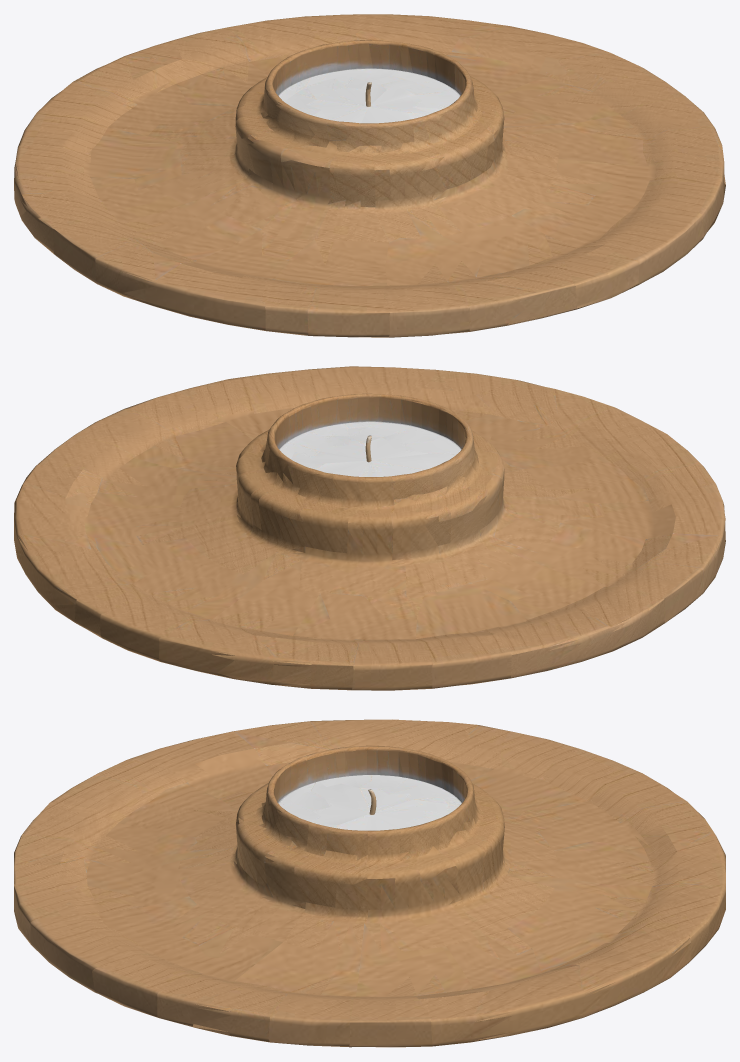
The model's file is photophore.glb.
3 renders of one model, top to bottom at view 1: azimuth 30°, elevation 25°; view 2: azimuth 150°, elevation 25°; view 3: azimuth 270°, elevation 25°, orthographic.
Visible parts, largest first — view 1: mesh_node; view 2: mesh_node; view 3: mesh_node.
Part boxes in pixels (bbox=[...]): mesh_node: bbox=[14, 14, 725, 337]; mesh_node: bbox=[14, 366, 725, 690]; mesh_node: bbox=[14, 719, 725, 1047].
Bounding box in the file's own units: 1 × 0.168 × 1.
Materials: 1 (1 with a texture image).
